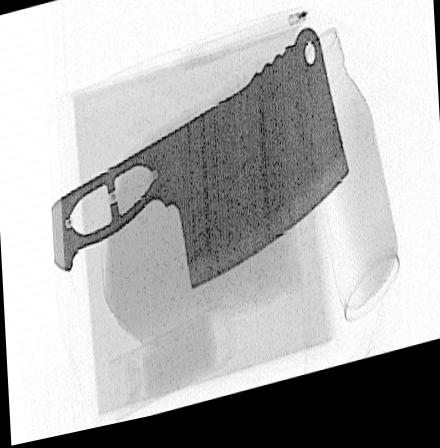Knife: (40, 35, 351, 303)
